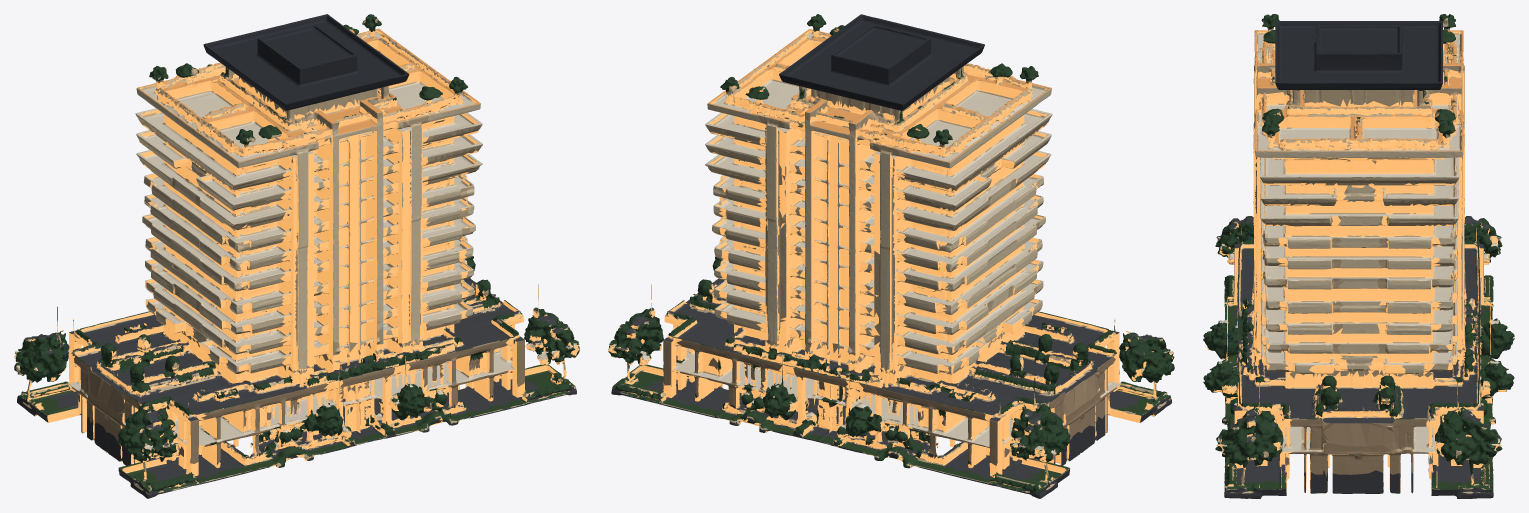
Rendered from building-colored.glb.
3 renders of one model, left to right at view 1: azimuth 30°, elevation 25°; view 2: azimuth 150°, elevation 25°; view 3: azimuth 270°, elevation 25°, orthographic. The views are drawn at different scales.
Parts seen in each view (by area): view 1: building; view 2: building; view 3: building.
Part boxes in pixels (x1,y1,x2,y2): building: (14, 14, 579, 498); building: (608, 14, 1174, 498); building: (1203, 14, 1514, 498).
Size of the model in its own units: 1.9 by 1.45 by 1.12.
